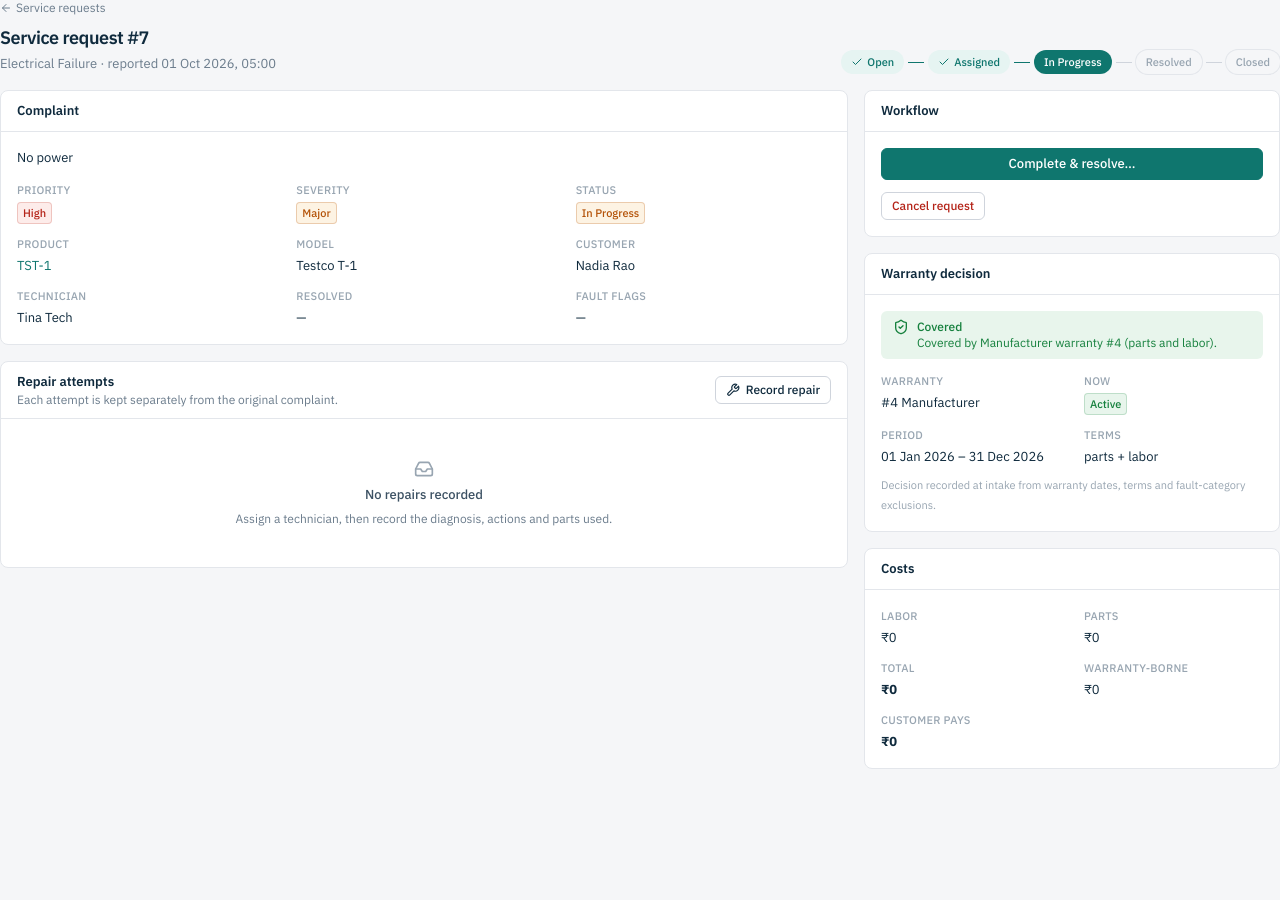
it: Service request repair workflow › validates the repair form, including stock limits
The image size is (1280, 900).
Click the button "Record repair" at (773, 390), box [715, 376, 831, 404]
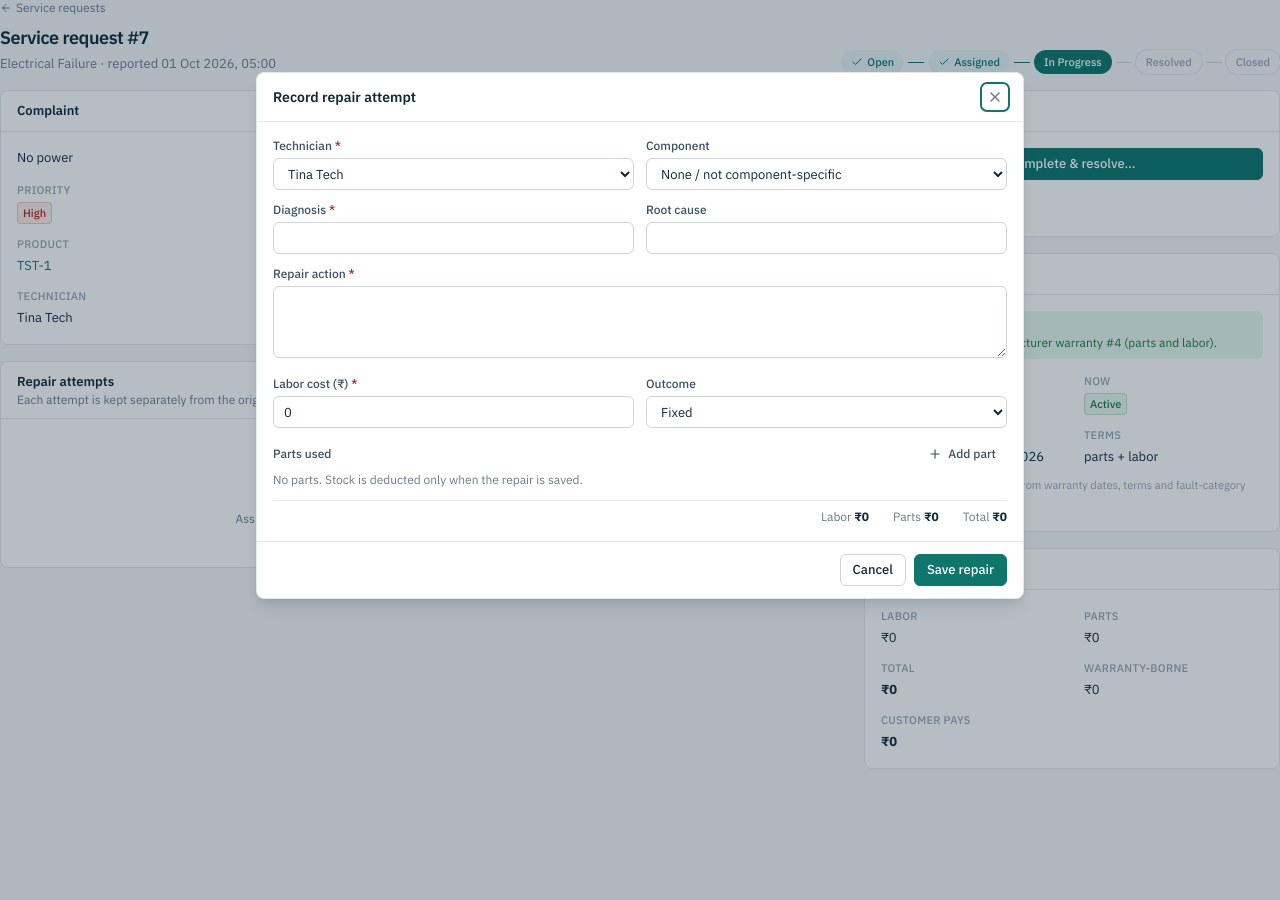
Click the button "Add part" at (962, 454), box [917, 440, 1007, 468]
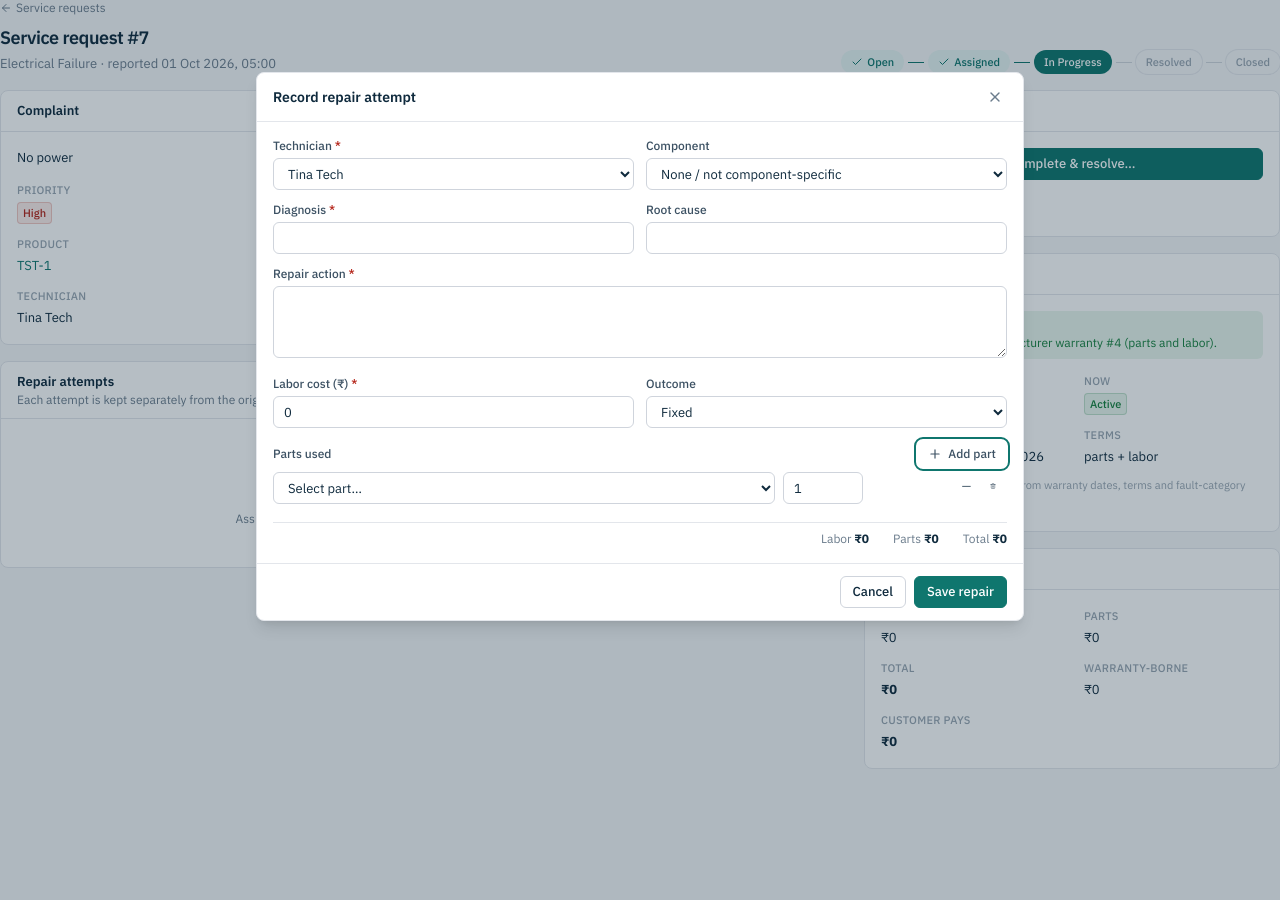
Select "PN-BAT-1 — Battery (2 in stock)" in the dropdown named "Part 1" at (524, 488), box [273, 472, 775, 504]
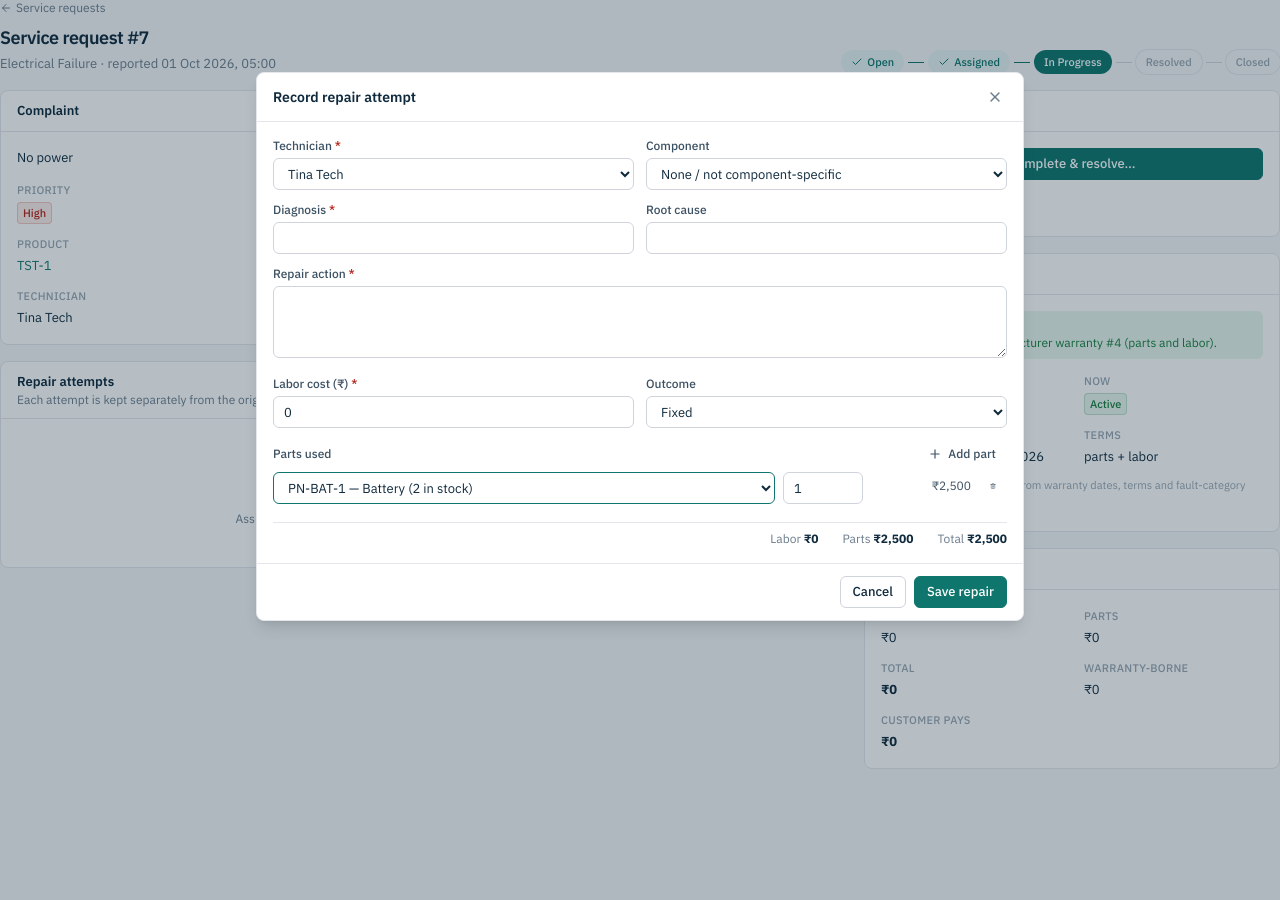
Replace the text in the number field named "Quantity 1" with "3" at (823, 488), box [783, 472, 863, 504]
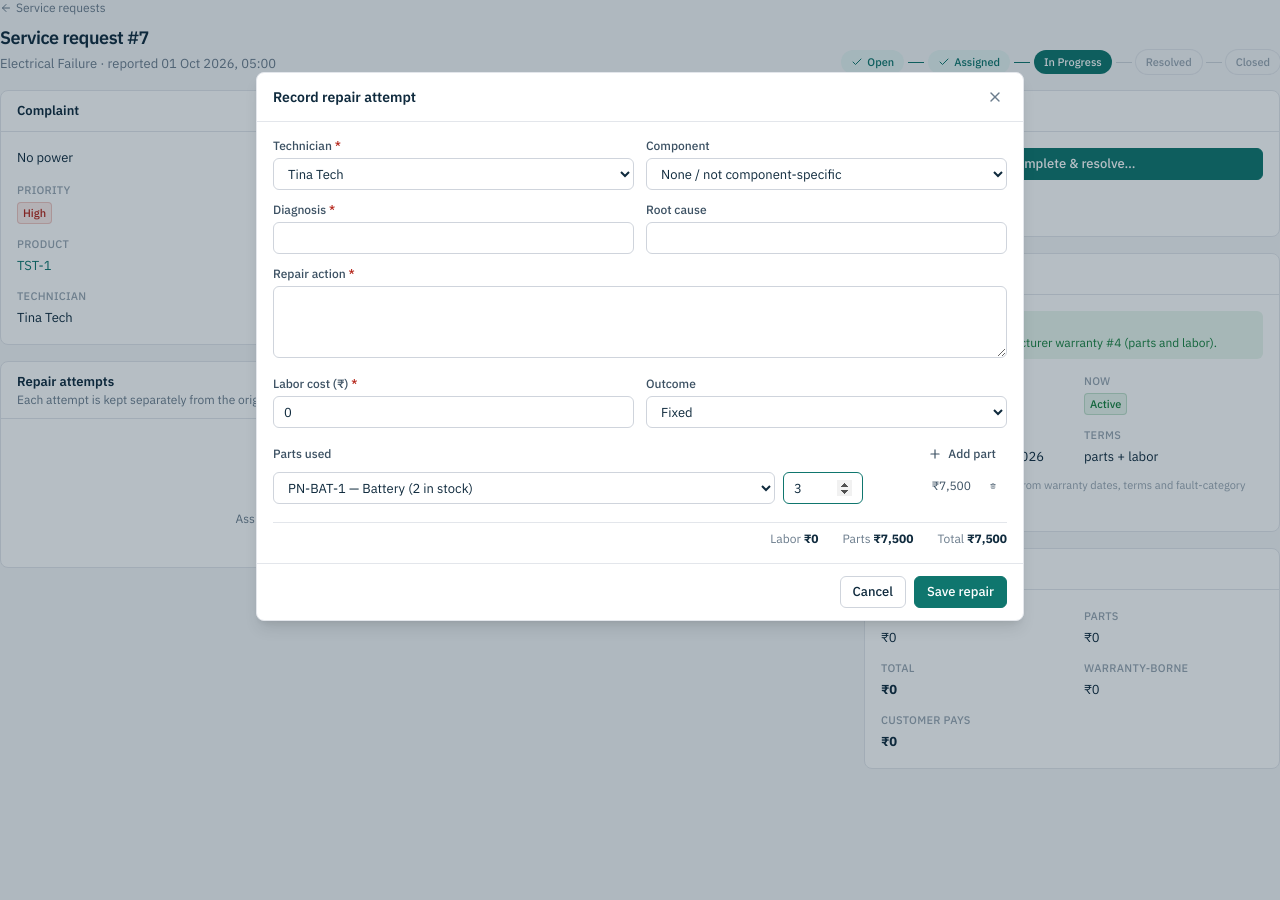
Click the button "Save repair" at (960, 592), box [914, 576, 1007, 608]
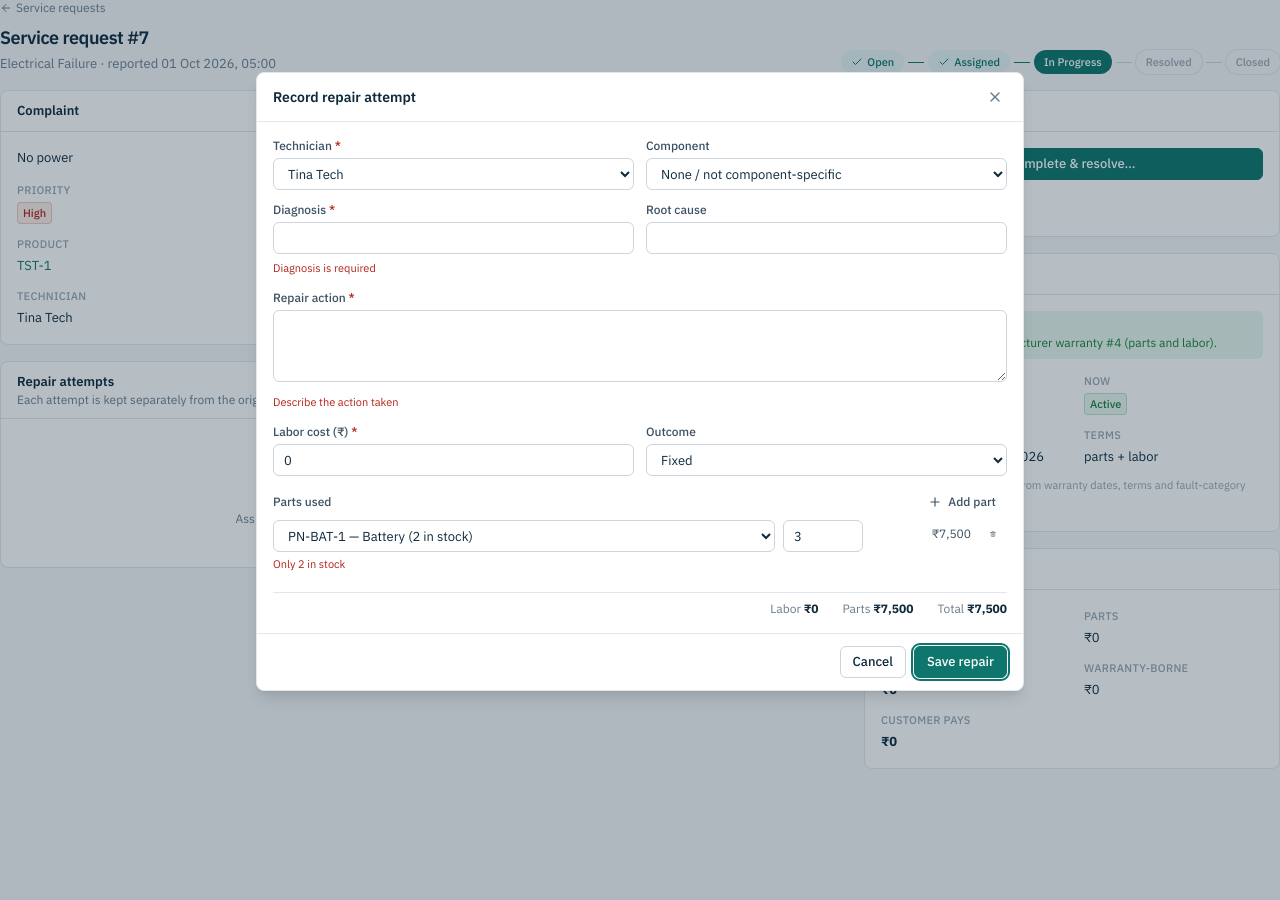
Expected: the text "Diagnosis is required" is shown, [273, 261, 376, 275]
Expected: the text "Only 2 in stock" is shown, [273, 557, 345, 571]
